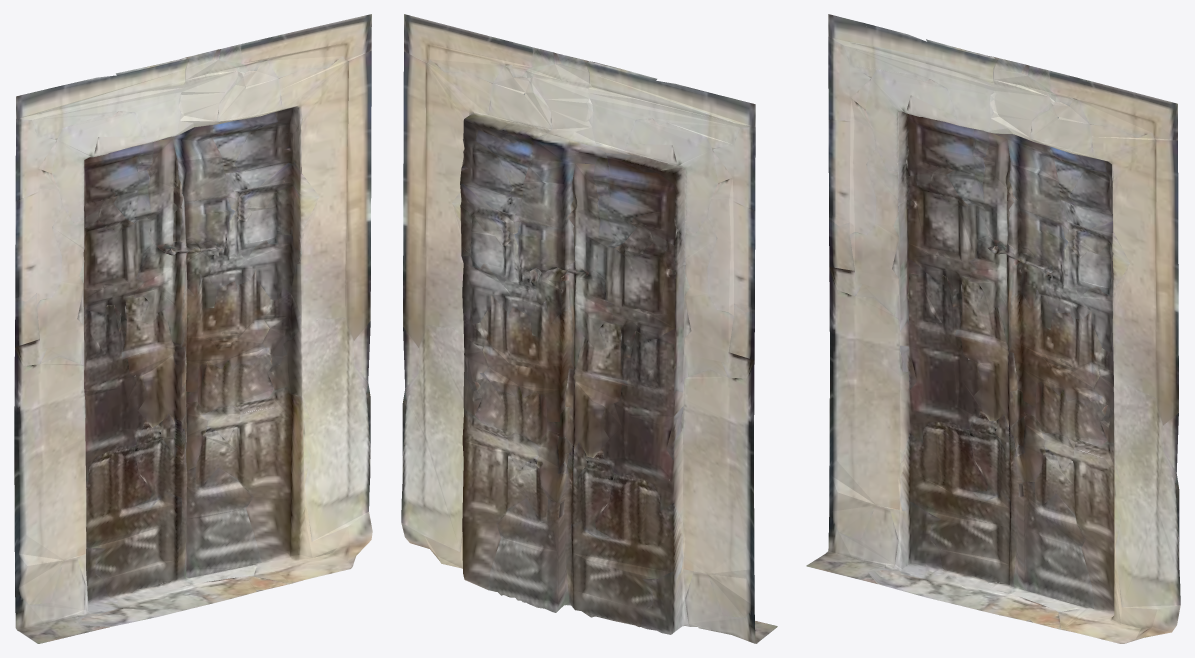
Rendered from wooden-door-zawiya.glb.
The picture shows the model from 3 angles, left to right: view 1: azimuth 30°, elevation 25°; view 2: azimuth 150°, elevation 25°; view 3: azimuth 330°, elevation 25°; orthographic projection.
Visible parts, largest first — view 1: Object_3; view 2: Object_3; view 3: Object_3.
Part boxes in pixels (x1=…): Object_3: x1=14, y1=14, x2=372, y2=643; Object_3: x1=401, y1=14, x2=777, y2=643; Object_3: x1=806, y1=14, x2=1180, y2=643.
Bounding box in the file's own units: 1.61 × 2.35 × 0.2967.
1 material, 1 textured.
